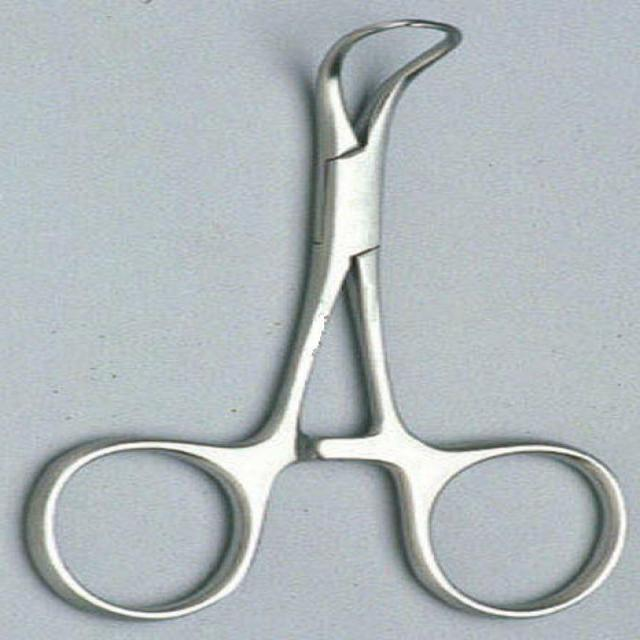Towel_clip: (16, 16, 634, 630)
